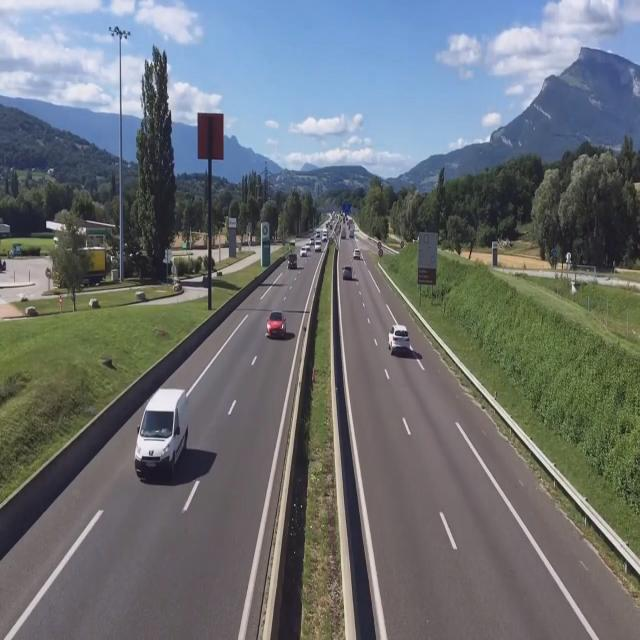car: (133, 391, 190, 483), (388, 324, 412, 358), (266, 310, 286, 340), (341, 263, 353, 281), (353, 246, 361, 260)
